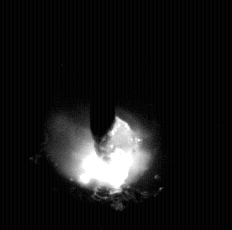arame: (90, 0, 116, 156)
poca: (46, 0, 155, 230)
